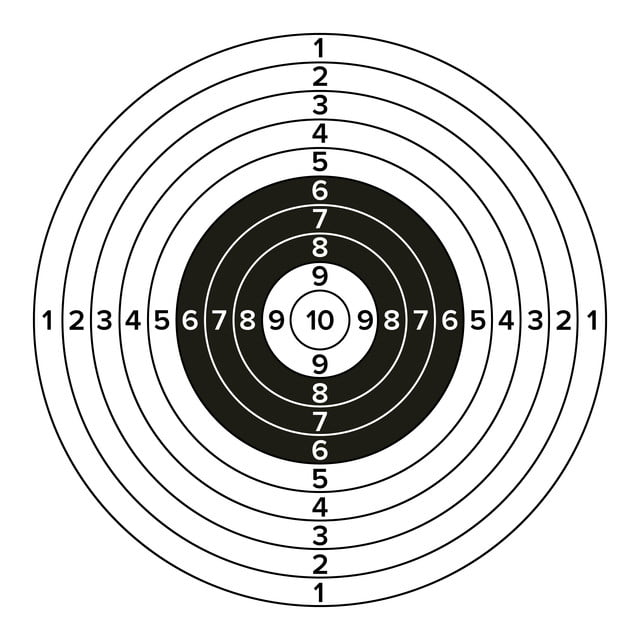target: (17, 13, 617, 618)
